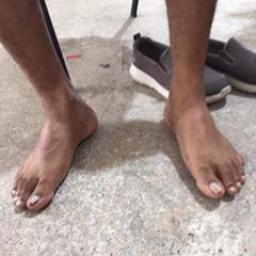Front View -Both Feet-: (6, 63, 248, 223)
